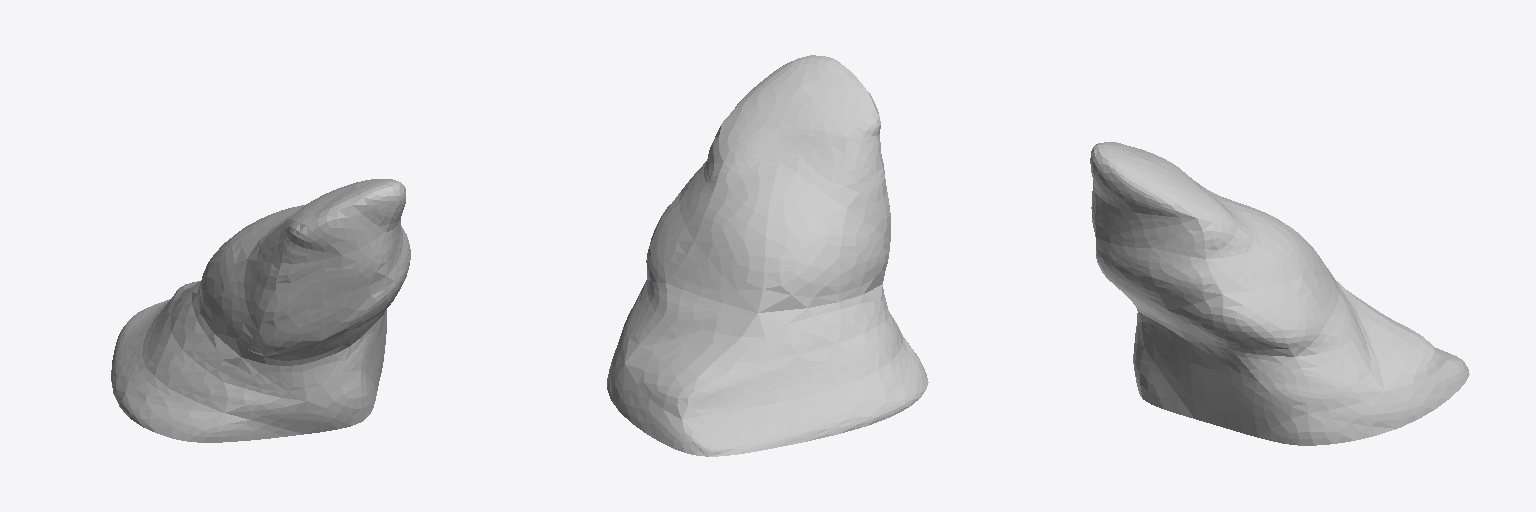
3 views of the same model, side by side, from view 1: azimuth 30°, elevation 25°; view 2: azimuth 150°, elevation 25°; view 3: azimuth 270°, elevation 25° (orthographic).
Visible parts, largest first — view 1: Roca01_polySurface455tree_FBXASC032CopyFBXASC032Copy_ncl1_1; view 2: Roca01_polySurface455tree_FBXASC032CopyFBXASC032Copy_ncl1_1; view 3: Roca01_polySurface455tree_FBXASC032CopyFBXASC032Copy_ncl1_1.
Boxes of the visible parts, <box> form: Roca01_polySurface455tree_FBXASC032CopyFBXASC032Copy_ncl1_1: <box>111,179,410,442</box>; Roca01_polySurface455tree_FBXASC032CopyFBXASC032Copy_ncl1_1: <box>607,55,928,456</box>; Roca01_polySurface455tree_FBXASC032CopyFBXASC032Copy_ncl1_1: <box>1090,142,1469,445</box>.
Bounding box in the file's own units: 8.21 × 7.35 × 10.12.